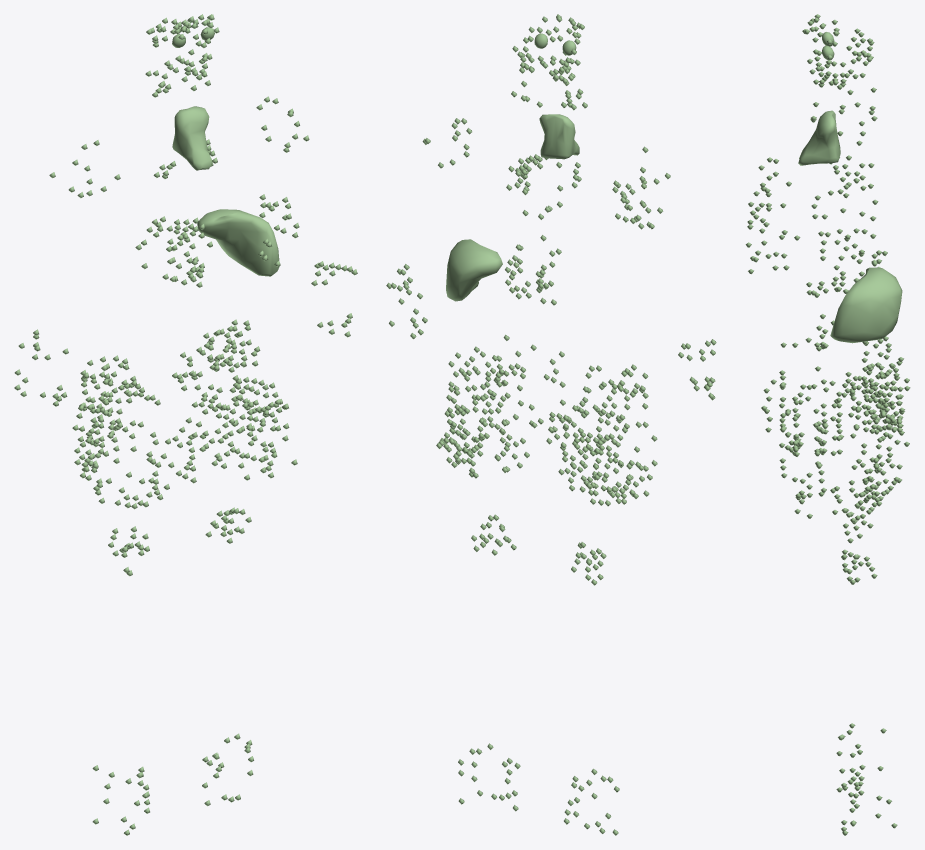
File: pediatric_child_10y_female.lymphatic.LOD2.glb
The picture shows the model from 3 angles, left to right: view 1: azimuth 30°, elevation 25°; view 2: azimuth 150°, elevation 25°; view 3: azimuth 270°, elevation 25°; orthographic projection. The views are drawn at different scales.
Parts seen in each view (by area): view 1: PEDIATRIC.CHILD_10Y.FEMALE.LYMPHATIC.LYMPHATIC_NODES_TRUNK, PEDIATRIC.CHILD_10Y.FEMALE.LYMPHATIC.SPLEEN, PEDIATRIC.CHILD_10Y.FEMALE.LYMPHATIC.THYMUS, PEDIATRIC.CHILD_10Y.FEMALE.LYMPHATIC.LYMPHATIC_NODES_ET, PEDIATRIC.CHILD_10Y.FEMALE.LYMPHATIC.LYMPHATIC_NODES_THORACI, PEDIATRIC.CHILD_10Y.FEMALE.LYMPHATIC.LYMPHATIC_NODES_ARMS, PEDIATRIC.CHILD_10Y.FEMALE.LYMPHATIC.LYMPHATIC_NODES_LEGS; view 2: PEDIATRIC.CHILD_10Y.FEMALE.LYMPHATIC.LYMPHATIC_NODES_TRUNK, PEDIATRIC.CHILD_10Y.FEMALE.LYMPHATIC.SPLEEN, PEDIATRIC.CHILD_10Y.FEMALE.LYMPHATIC.THYMUS, PEDIATRIC.CHILD_10Y.FEMALE.LYMPHATIC.LYMPHATIC_NODES_THORACI, PEDIATRIC.CHILD_10Y.FEMALE.LYMPHATIC.LYMPHATIC_NODES_ET, PEDIATRIC.CHILD_10Y.FEMALE.LYMPHATIC.LYMPHATIC_NODES_LEGS, PEDIATRIC.CHILD_10Y.FEMALE.LYMPHATIC.LYMPHATIC_NODES_ARMS; view 3: PEDIATRIC.CHILD_10Y.FEMALE.LYMPHATIC.LYMPHATIC_NODES_TRUNK, PEDIATRIC.CHILD_10Y.FEMALE.LYMPHATIC.SPLEEN, PEDIATRIC.CHILD_10Y.FEMALE.LYMPHATIC.THYMUS, PEDIATRIC.CHILD_10Y.FEMALE.LYMPHATIC.LYMPHATIC_NODES_ET, PEDIATRIC.CHILD_10Y.FEMALE.LYMPHATIC.LYMPHATIC_NODES_ARMS, PEDIATRIC.CHILD_10Y.FEMALE.LYMPHATIC.LYMPHATIC_NODES_THORACI, PEDIATRIC.CHILD_10Y.FEMALE.LYMPHATIC.LYMPHATIC_NODES_LEGS, PEDIATRIC.CHILD_10Y.FEMALE.LYMPHATIC.LYMPHATIC_NODES_HEAD.
Boxes of the visible parts, <box> form: PEDIATRIC.CHILD_10Y.FEMALE.LYMPHATIC.LYMPHATIC_NODES_TRUNK: <box>49,96,309,576</box>; PEDIATRIC.CHILD_10Y.FEMALE.LYMPHATIC.SPLEEN: <box>197,209,279,276</box>; PEDIATRIC.CHILD_10Y.FEMALE.LYMPHATIC.THYMUS: <box>172,106,212,170</box>; PEDIATRIC.CHILD_10Y.FEMALE.LYMPHATIC.LYMPHATIC_NODES_ET: <box>146,14,219,76</box>; PEDIATRIC.CHILD_10Y.FEMALE.LYMPHATIC.LYMPHATIC_NODES_THORACI: <box>141,139,217,287</box>; PEDIATRIC.CHILD_10Y.FEMALE.LYMPHATIC.LYMPHATIC_NODES_ARMS: <box>14,261,357,406</box>; PEDIATRIC.CHILD_10Y.FEMALE.LYMPHATIC.LYMPHATIC_NODES_LEGS: <box>92,733,253,835</box>; PEDIATRIC.CHILD_10Y.FEMALE.LYMPHATIC.LYMPHATIC_NODES_TRUNK: <box>422,118,670,585</box>; PEDIATRIC.CHILD_10Y.FEMALE.LYMPHATIC.SPLEEN: <box>446,239,502,301</box>; PEDIATRIC.CHILD_10Y.FEMALE.LYMPHATIC.THYMUS: <box>539,114,579,159</box>; PEDIATRIC.CHILD_10Y.FEMALE.LYMPHATIC.LYMPHATIC_NODES_THORACI: <box>505,154,581,305</box>; PEDIATRIC.CHILD_10Y.FEMALE.LYMPHATIC.LYMPHATIC_NODES_ET: <box>512,14,584,81</box>; PEDIATRIC.CHILD_10Y.FEMALE.LYMPHATIC.LYMPHATIC_NODES_LEGS: <box>458,743,619,835</box>; PEDIATRIC.CHILD_10Y.FEMALE.LYMPHATIC.LYMPHATIC_NODES_ARMS: <box>386,264,716,400</box>; PEDIATRIC.CHILD_10Y.FEMALE.LYMPHATIC.LYMPHATIC_NODES_TRUNK: <box>745,80,910,584</box>; PEDIATRIC.CHILD_10Y.FEMALE.LYMPHATIC.SPLEEN: <box>830,267,902,343</box>; PEDIATRIC.CHILD_10Y.FEMALE.LYMPHATIC.THYMUS: <box>798,110,840,165</box>; PEDIATRIC.CHILD_10Y.FEMALE.LYMPHATIC.LYMPHATIC_NODES_ET: <box>802,14,874,85</box>; PEDIATRIC.CHILD_10Y.FEMALE.LYMPHATIC.LYMPHATIC_NODES_ARMS: <box>806,231,858,441</box>; PEDIATRIC.CHILD_10Y.FEMALE.LYMPHATIC.LYMPHATIC_NODES_THORACI: <box>823,155,887,293</box>; PEDIATRIC.CHILD_10Y.FEMALE.LYMPHATIC.LYMPHATIC_NODES_LEGS: <box>836,723,897,835</box>; PEDIATRIC.CHILD_10Y.FEMALE.LYMPHATIC.LYMPHATIC_NODES_HEAD: <box>813,62,876,114</box>.
Bounding box in the file's own units: 0.3954 × 0.9157 × 0.1722.
